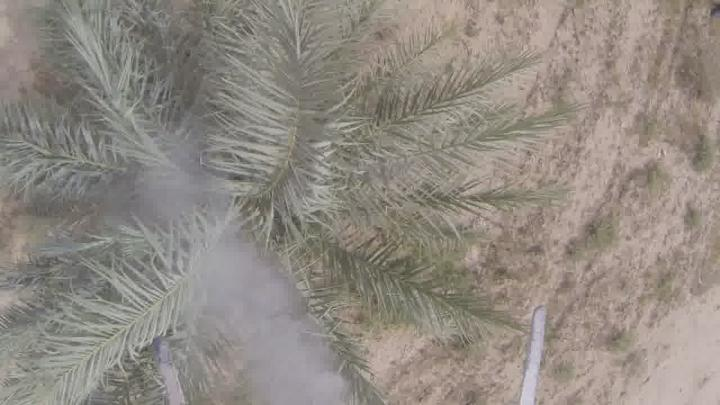Date-Palm-Crown: (52, 55, 392, 385)
